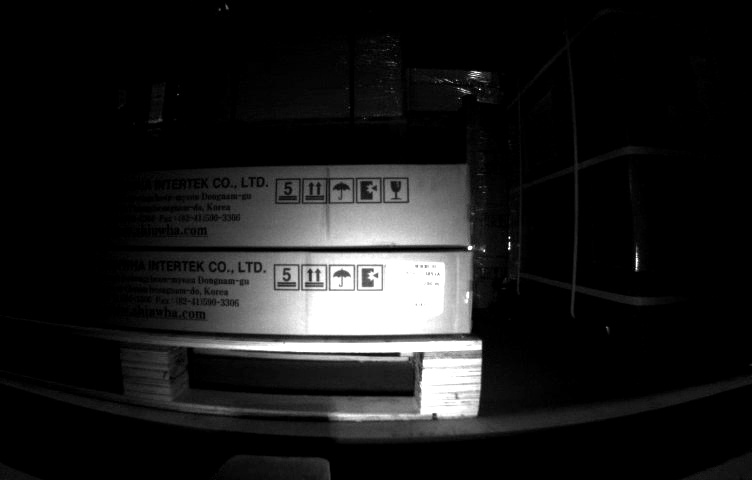True Barcode: (391, 262, 447, 317)
